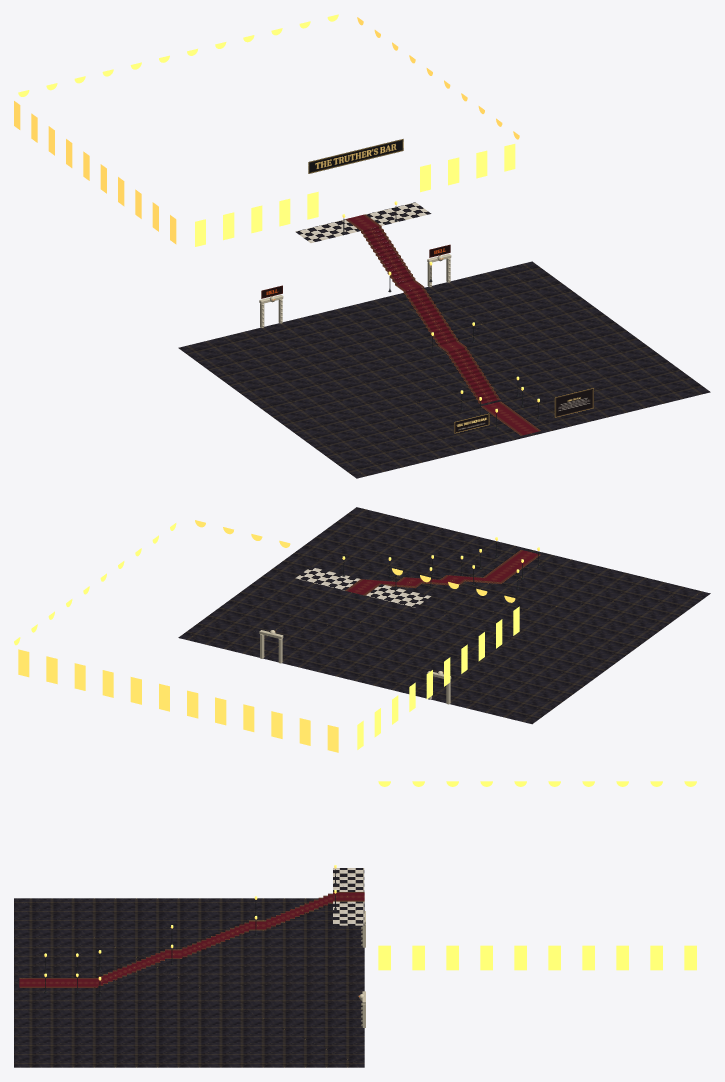
Rendered from tb_outside_p3.glb.
3 renders of one model, top to bottom at view 1: azimuth 30°, elevation 25°; view 2: azimuth 150°, elevation 25°; view 3: azimuth 270°, elevation 25°, orthographic.
Visible parts, largest first — view 1: tb_outside_p3; view 2: tb_outside_p3; view 3: tb_outside_p3.
Boxes of the visible parts, left/top/right/bottom form: tb_outside_p3: left=14, top=14, right=710, bottom=478; tb_outside_p3: left=14, top=507, right=710, bottom=752; tb_outside_p3: left=14, top=781, right=696, bottom=1067.
Size of the model in its own units: 76 by 31.75 by 132.
Materials: 12 (9 with a texture image).
